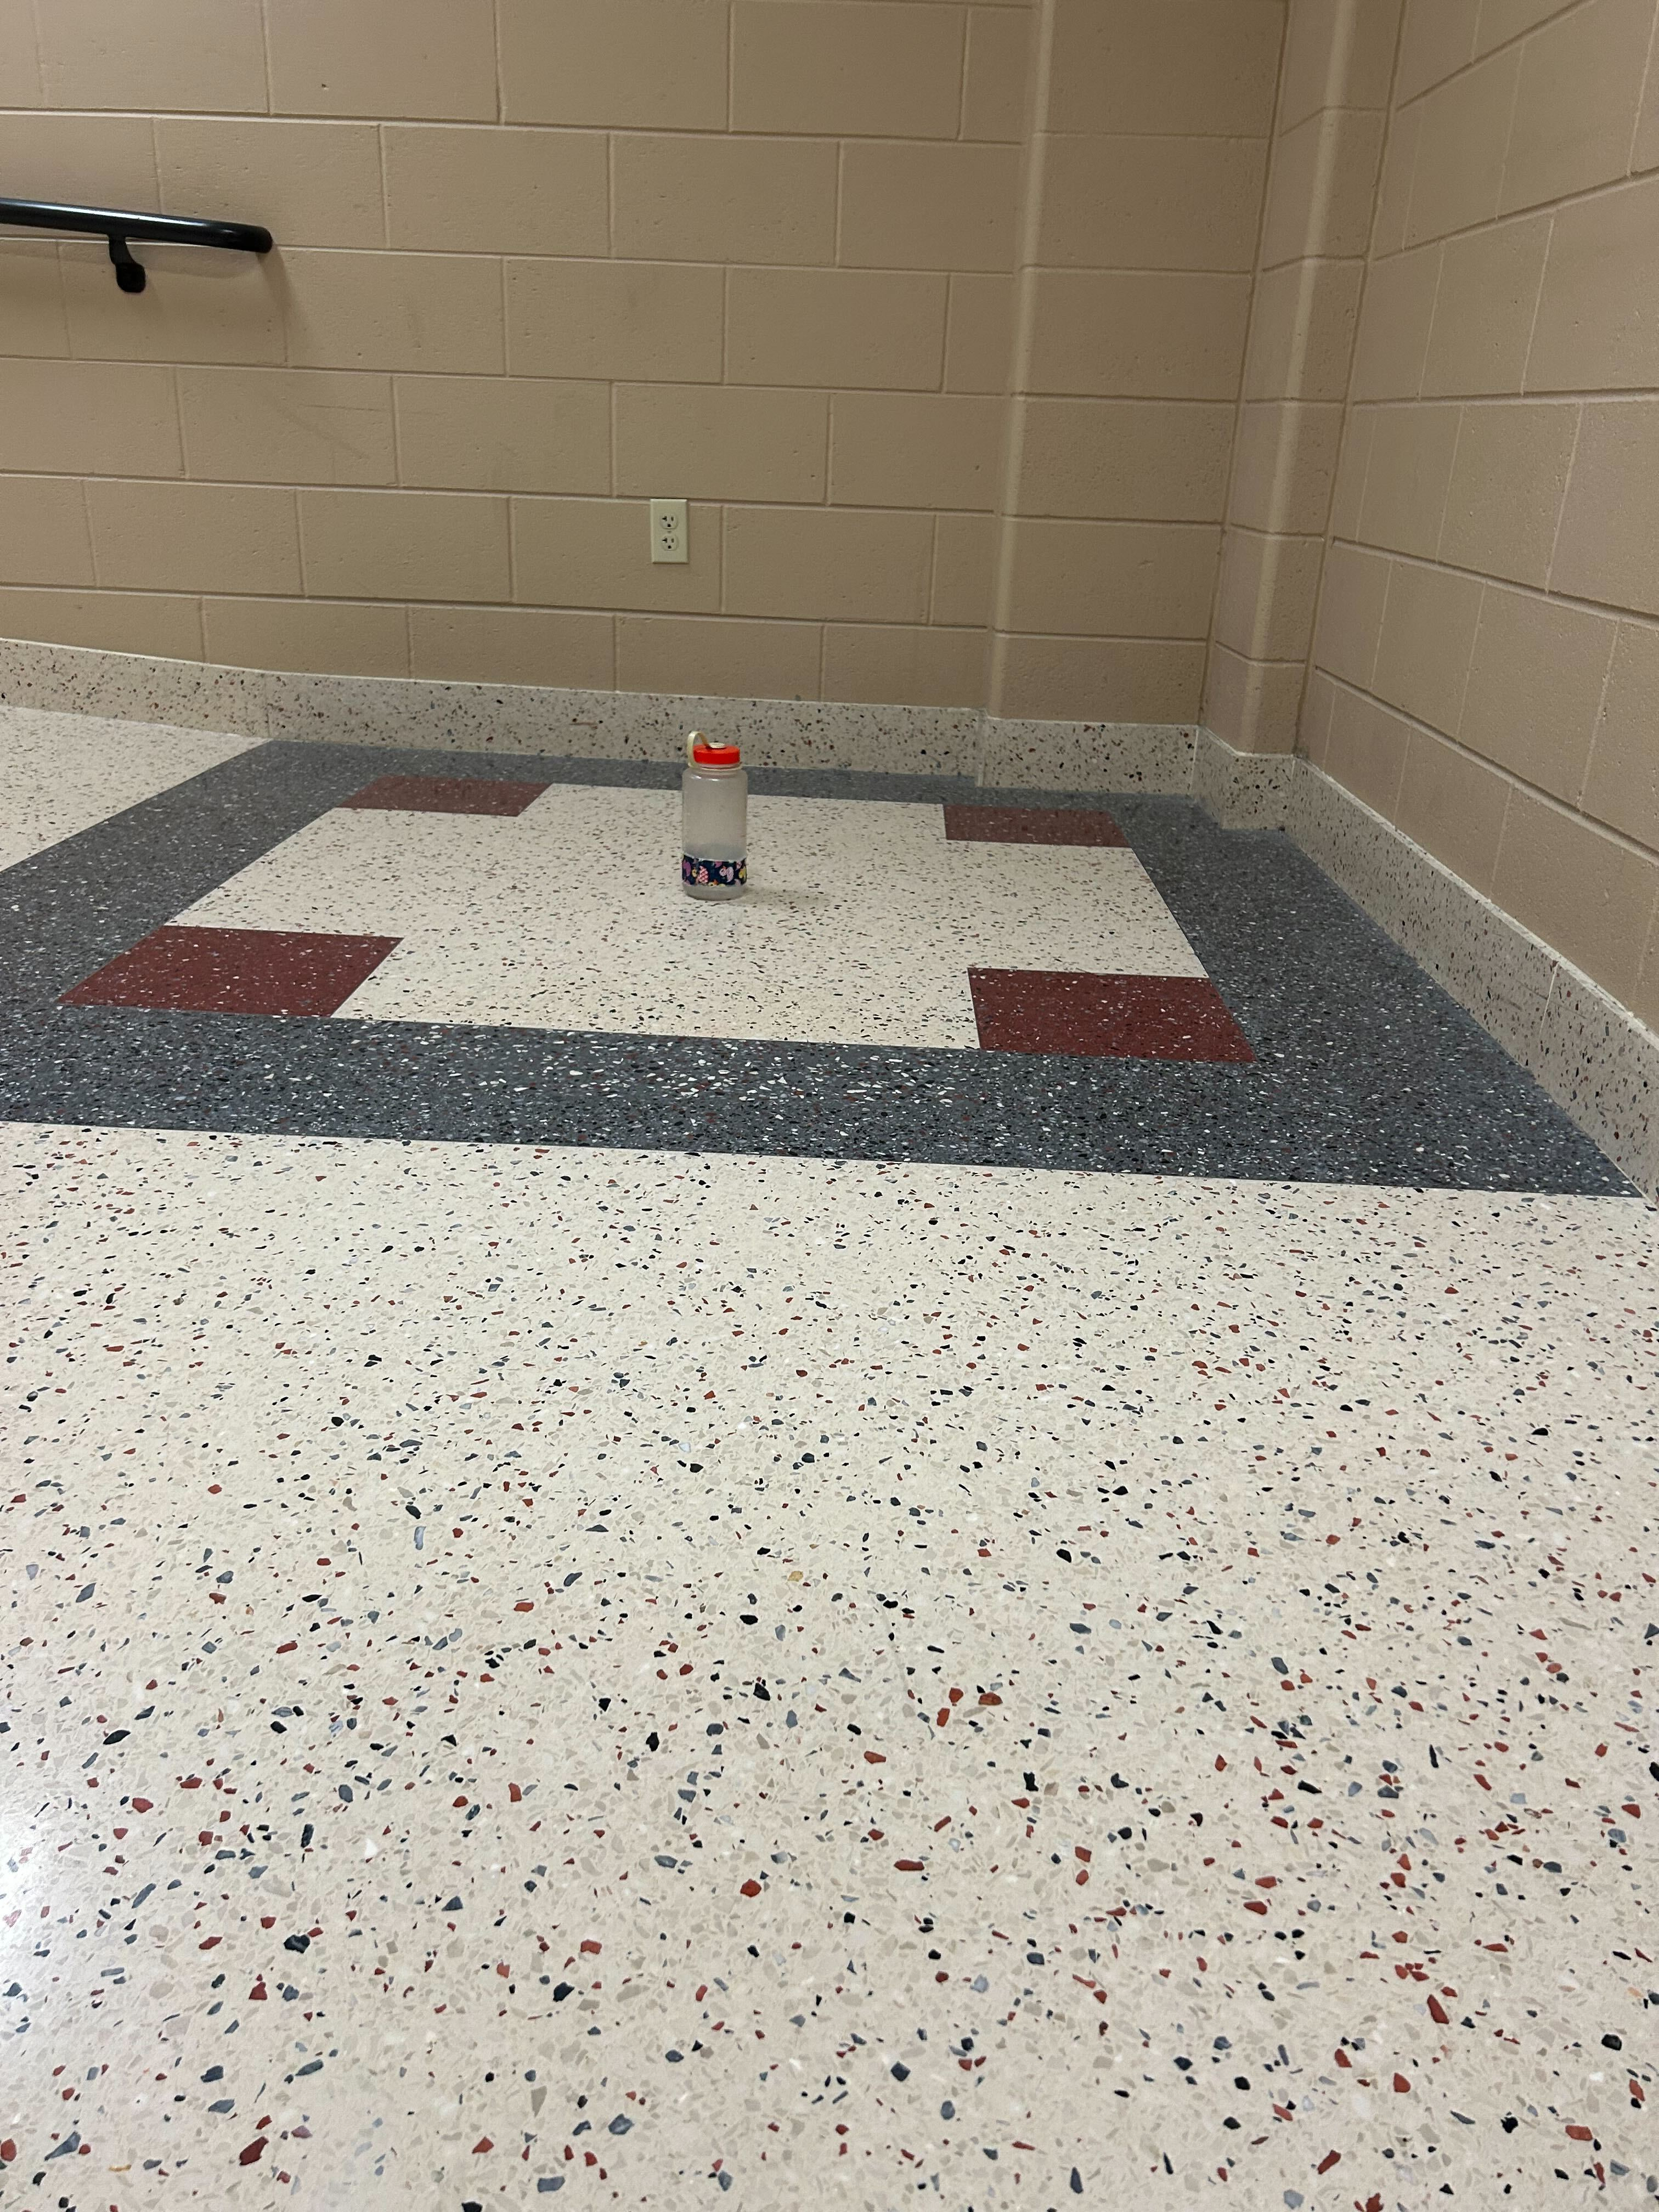bottle: (676, 718, 751, 909)
